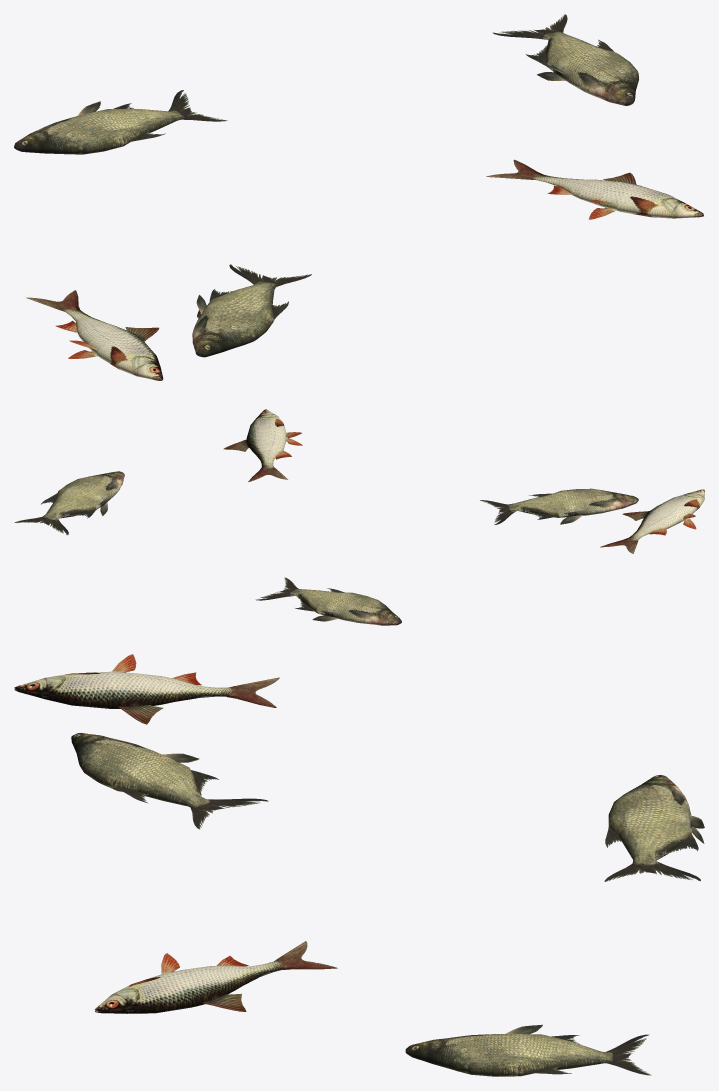
File: fish2.obj
3 views of the same model, one above another, from view 1: azimuth 30°, elevation 25°; view 2: azimuth 150°, elevation 25°; view 3: azimuth 270°, elevation 25° (orthographic). The views are drawn at different scales.
Visible parts, largest first — view 1: Mesh15 lahna2 lahna_all2 lahna_kaikki2 Component_1_2 Model, Mesh27 lahna3 lahna_all3 lahna_kaikki3 Component_1_3 Model, Mesh9 lahna1 lahna_all1 lahna_kaikki1 Component_1_1 Model, Mesh24 sarki_all2 Component2 Model, Mesh6 sarki_all1 Component1 Model, Mesh29 pyrstoeva_1_3 lahna_all3 lahna_kaikki3 Component_1_3 Mode, Mesh17 pyrstoeva_1_2 lahna_all2 lahna_kaikki2 Component_1_2 Mode, Mesh11 pyrstoeva_1_1 lahna_all1 lahna_kaikki1 Component_1_1 Mode; view 2: Mesh9 lahna1 lahna_all1 lahna_kaikki1 Component_1_1 Model, Mesh15 lahna2 lahna_all2 lahna_kaikki2 Component_1_2 Model, Mesh27 lahna3 lahna_all3 lahna_kaikki3 Component_1_3 Model, Mesh24 sarki_all2 Component2 Model, Mesh6 sarki_all1 Component1 Model; view 3: Mesh27 lahna3 lahna_all3 lahna_kaikki3 Component_1_3 Model, Mesh9 lahna1 lahna_all1 lahna_kaikki1 Component_1_1 Model, Mesh6 sarki_all1 Component1 Model, Mesh15 lahna2 lahna_all2 lahna_kaikki2 Component_1_2 Model, Mesh24 sarki_all2 Component2 Model, Mesh11 pyrstoeva_1_1 lahna_all1 lahna_kaikki1 Component_1_1 Mode, Mesh29 pyrstoeva_1_3 lahna_all3 lahna_kaikki3 Component_1_3 Mode, Mesh17 pyrstoeva_1_2 lahna_all2 lahna_kaikki2 Component_1_2 Mode, Mesh3 pyrstoeva1 sarki_all1 Component1 Model, Mesh21 pyrstoeva2 sarki_all2 Component2 Model.
Boxes of the visible parts, x1,y1,x2,y2 form: Mesh15 lahna2 lahna_all2 lahna_kaikki2 Component_1_2 Model: (14,109,185,154); Mesh27 lahna3 lahna_all3 lahna_kaikki3 Component_1_3 Model: (542,31,638,105); Mesh9 lahna1 lahna_all1 lahna_kaikki1 Component_1_1 Model: (192,281,278,357); Mesh24 sarki_all2 Component2 Model: (533,174,703,218); Mesh6 sarki_all1 Component1 Model: (64,308,163,380); Mesh29 pyrstoeva_1_3 lahna_all3 lahna_kaikki3 Component_1_3 Mode: (492,14,567,40); Mesh17 pyrstoeva_1_2 lahna_all2 lahna_kaikki2 Component_1_2 Mode: (168,90,227,121); Mesh11 pyrstoeva_1_1 lahna_all1 lahna_kaikki1 Component_1_1 Mode: (229,264,311,289); Mesh9 lahna1 lahna_all1 lahna_kaikki1 Component_1_1 Model: (507,488,638,517); Mesh15 lahna2 lahna_all2 lahna_kaikki2 Component_1_2 Model: (289,588,401,625); Mesh27 lahna3 lahna_all3 lahna_kaikki3 Component_1_3 Model: (42,471,124,520); Mesh24 sarki_all2 Component2 Model: (246,409,286,468); Mesh6 sarki_all1 Component1 Model: (628,489,704,540); Mesh27 lahna3 lahna_all3 lahna_kaikki3 Component_1_3 Model: (405,1034,612,1076); Mesh9 lahna1 lahna_all1 lahna_kaikki1 Component_1_1 Model: (71,733,211,808); Mesh6 sarki_all1 Component1 Model: (14,671,231,708); Mesh15 lahna2 lahna_all2 lahna_kaikki2 Component_1_2 Model: (608,775,692,865); Mesh24 sarki_all2 Component2 Model: (94,961,285,1013); Mesh11 pyrstoeva_1_1 lahna_all1 lahna_kaikki1 Component_1_1 Mode: (185,798,268,829); Mesh29 pyrstoeva_1_3 lahna_all3 lahna_kaikki3 Component_1_3 Mode: (600,1034,651,1075); Mesh17 pyrstoeva_1_2 lahna_all2 lahna_kaikki2 Component_1_2 Mode: (604,860,700,881); Mesh3 pyrstoeva1 sarki_all1 Component1 Model: (227,677,279,707); Mesh21 pyrstoeva2 sarki_all2 Component2 Model: (274,941,337,969).
Bounding box in the file's own units: 188 × 7.98 × 137.
2 materials, 2 textured.
